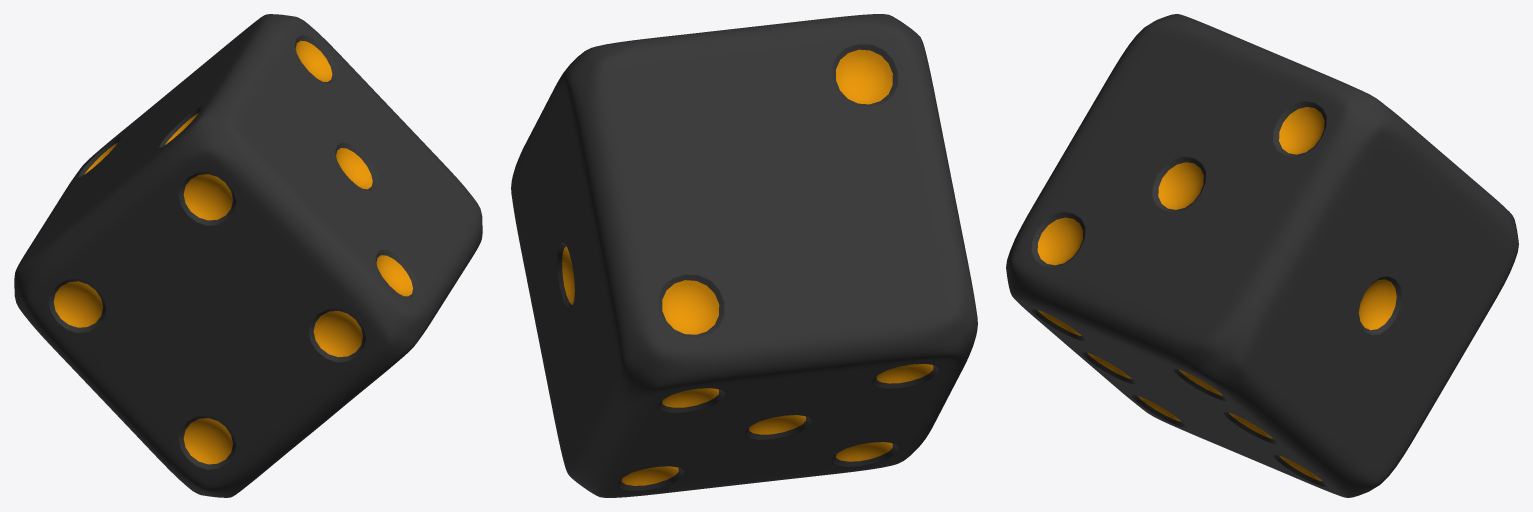
The model's file is dice_2.glb.
3 renders of one model, left to right at view 1: azimuth 30°, elevation 25°; view 2: azimuth 150°, elevation 25°; view 3: azimuth 270°, elevation 25°, orthographic. The views are drawn at different scales.
Visible parts, largest first — view 1: Cube.001; view 2: Cube.001; view 3: Cube.001.
Part boxes in pixels (x1,y1,x2,y2): Cube.001: [14, 14, 482, 497]; Cube.001: [511, 14, 977, 497]; Cube.001: [1006, 14, 1518, 497].
Bounding box in the file's own units: 12.02 × 10.49 × 12.02.
